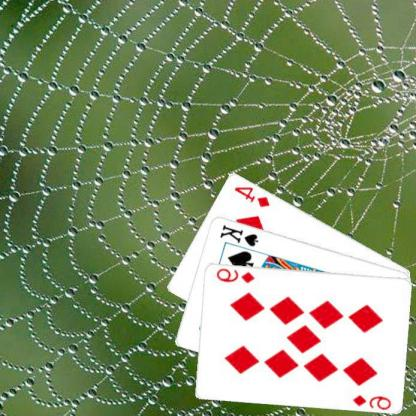4D: (233, 184, 273, 208)
9D: (215, 266, 258, 284), (351, 392, 394, 410)
KS: (219, 221, 261, 248)
